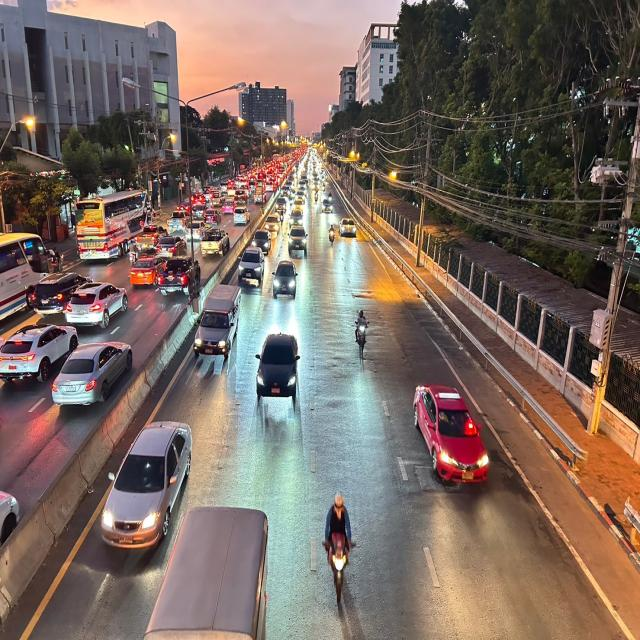bike: (319, 484, 362, 600), (350, 297, 379, 358)
truck: (192, 279, 245, 365)
